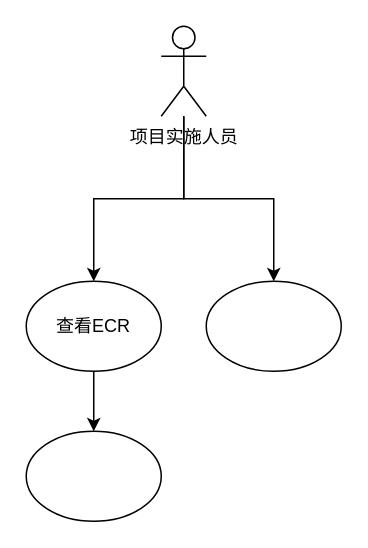
This 368x548 diagram has some shape labels left out. Each missing label, with the centre of its shape:
同步ECO状态: the point at 273,325
拾取ECO: the point at 93,475
